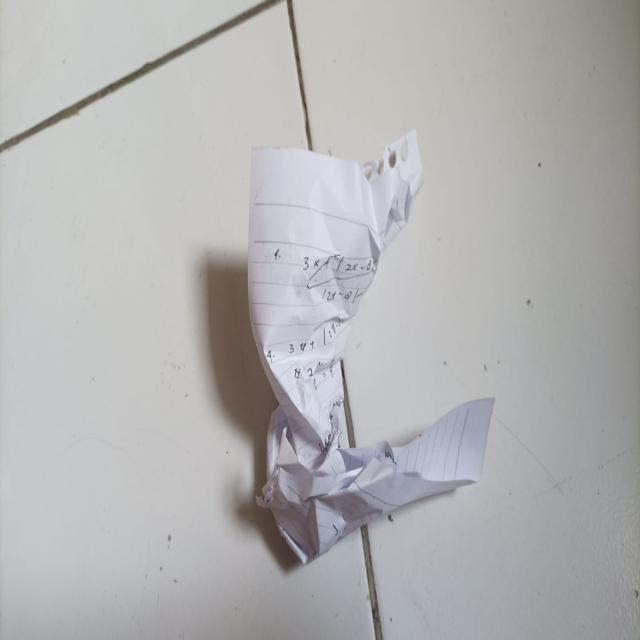Organik: (244, 126, 503, 572)
